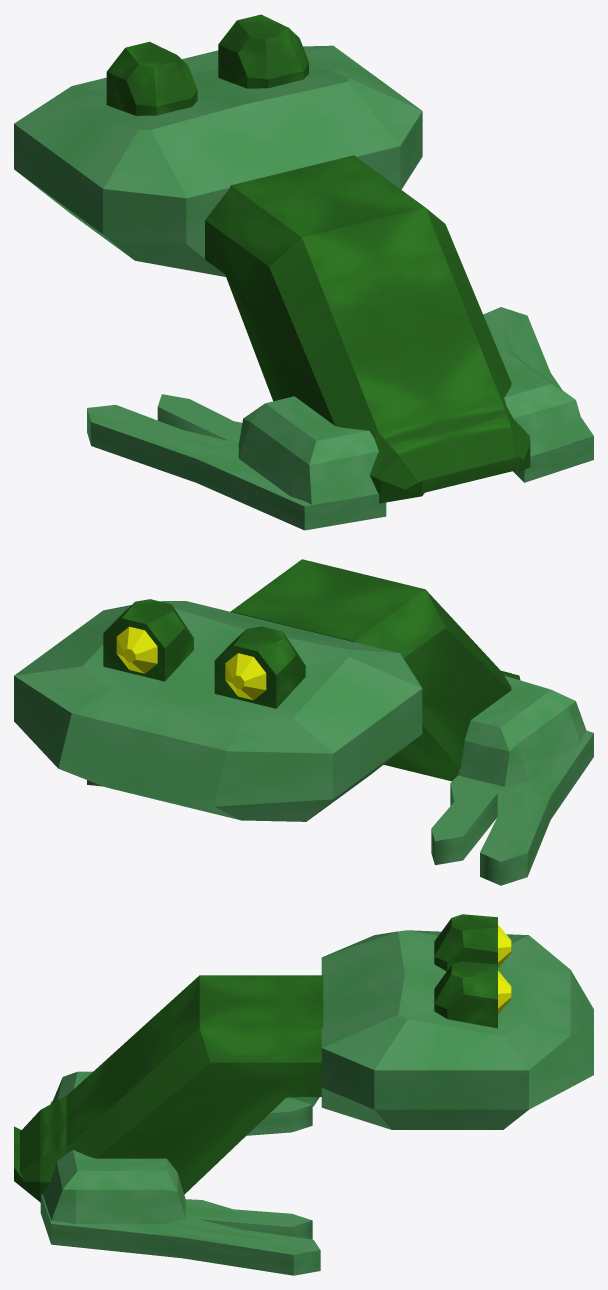
Rendered from frog_model.FBX.
3 renders of one model, top to bottom at view 1: azimuth 30°, elevation 25°; view 2: azimuth 150°, elevation 25°; view 3: azimuth 270°, elevation 25°, orthographic. The views are drawn at different scales.
Visible parts, largest first — view 1: Box003, Box001, Box005, Box004, Box002; view 2: Box001, Box003, Box005, Box004, Box002, Box006; view 3: Box001, Box003, Box005, Box004, Box002, Box006.
Part boxes in pixels (x1,y1,x2,y2): Box003: (205, 155, 530, 503); Box001: (14, 45, 422, 276); Box005: (87, 307, 593, 530); Box004: (238, 346, 586, 504); Box002: (106, 14, 308, 115); Box001: (14, 601, 422, 821); Box003: (230, 559, 520, 781); Box005: (87, 730, 593, 885); Box004: (458, 675, 586, 786); Box002: (103, 599, 305, 708); Box006: (116, 626, 266, 700); Box001: (321, 930, 593, 1129); Box003: (14, 975, 323, 1202); Box005: (40, 1097, 320, 1275); Box004: (43, 1071, 185, 1223); Box002: (434, 914, 497, 1028); Box006: (498, 925, 511, 1014).
Size of the model in its own units: 10.5 by 6.32 by 13.94.
3 materials, 3 textured.
